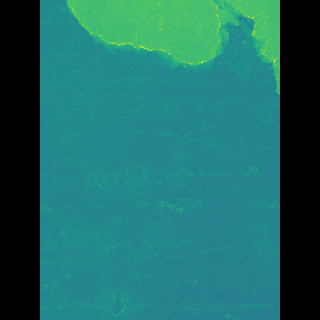Loch: (84, 0, 248, 76)
